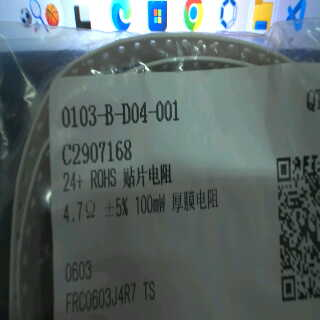4.7R: (57, 196, 103, 228)
